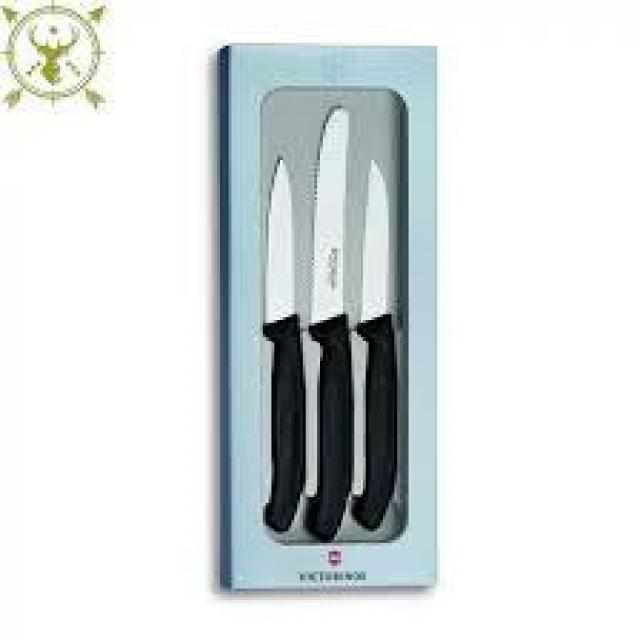Knife: (312, 106, 354, 544), (262, 154, 306, 530), (360, 148, 403, 530)
